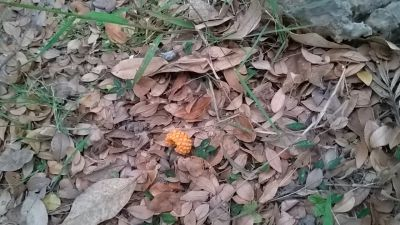eggs: (164, 130, 195, 155)
